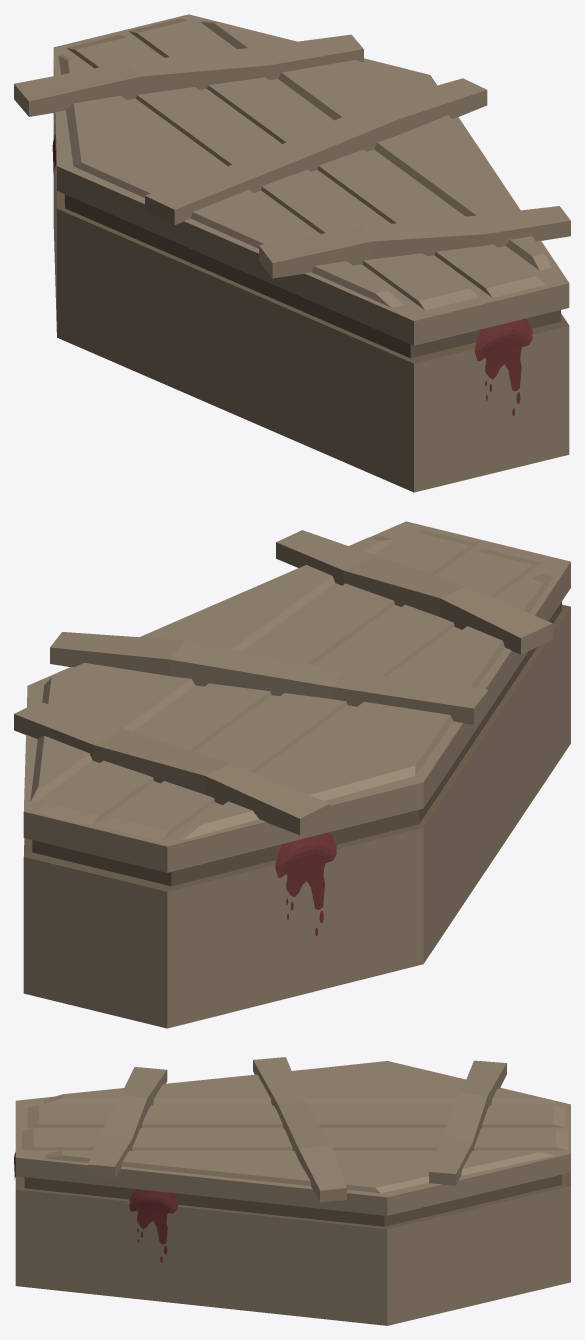
The model's file is Coffin Unharvested.fbx.
3 views of the same model, one above another, from view 1: azimuth 30°, elevation 25°; view 2: azimuth 150°, elevation 25°; view 3: azimuth 270°, elevation 25° (orthographic). The views are drawn at different scales.
Parts seen in each view (by area): view 1: pPlane6; view 2: pPlane6; view 3: pPlane6.
Part boxes in pixels (bbox=[...]): pPlane6: bbox=[14, 14, 570, 492]; pPlane6: bbox=[14, 521, 570, 1028]; pPlane6: bbox=[14, 1057, 570, 1325].
Bounding box in the file's own units: 1.53 × 0.7302 × 2.55.
